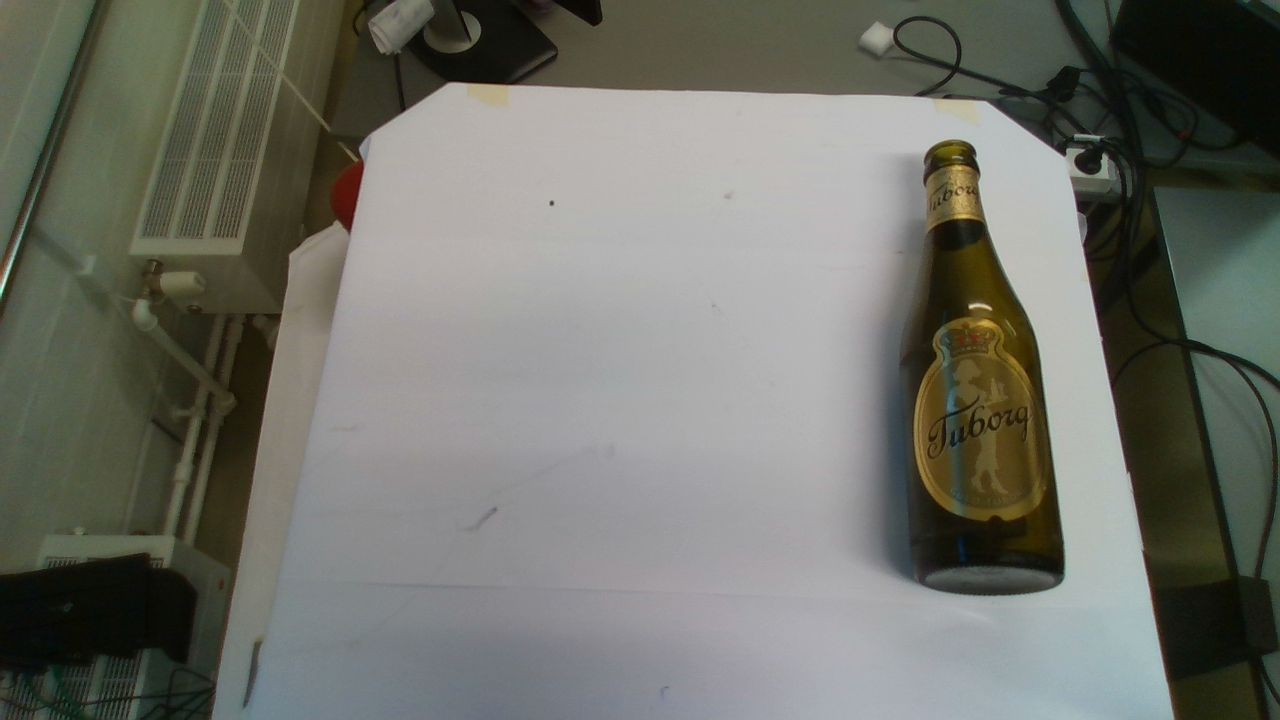bottle: (904, 138, 1067, 598)
